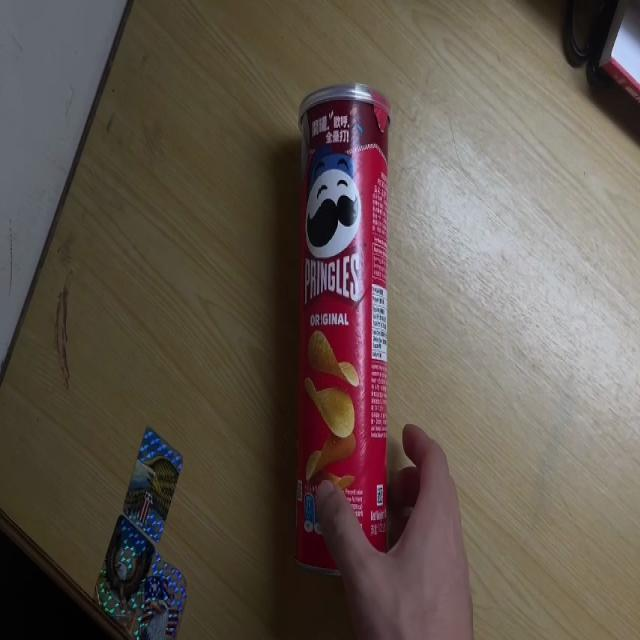Pringles: (295, 79, 391, 576)
